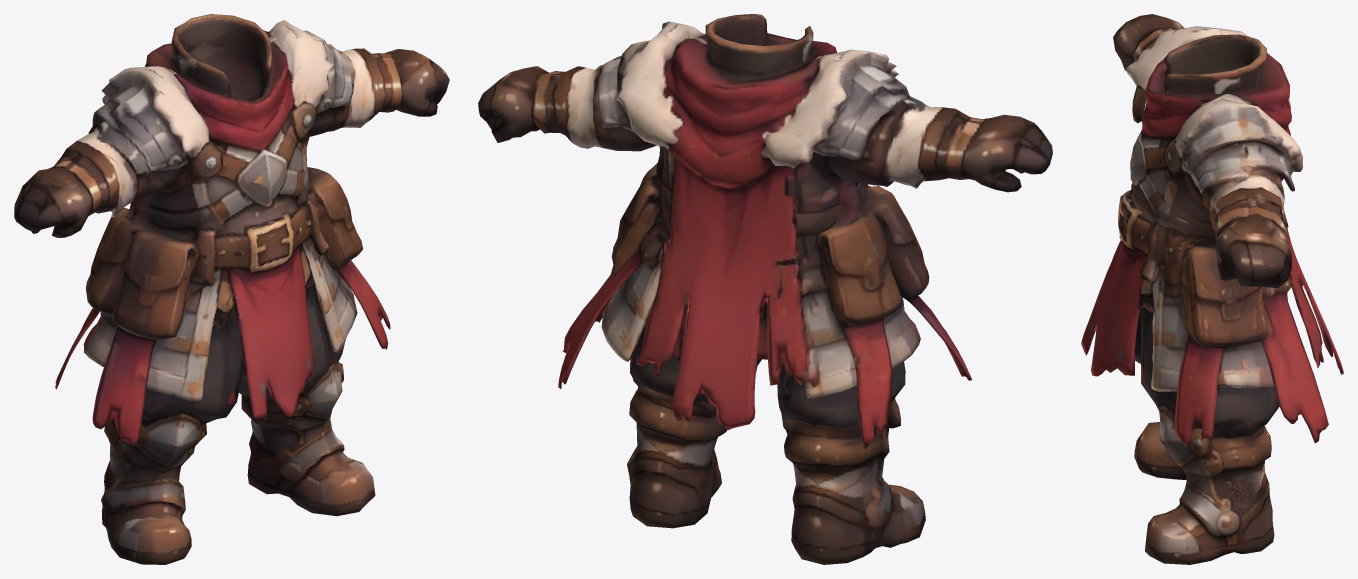
3 renders of one model, left to right at view 1: azimuth 30°, elevation 25°; view 2: azimuth 150°, elevation 25°; view 3: azimuth 270°, elevation 25°, orthographic. The views are drawn at different scales.
Parts seen in each view (by area): view 1: tripo_node_cdde323e-a337-4eee-8c30-f0f2cebe9046; view 2: tripo_node_cdde323e-a337-4eee-8c30-f0f2cebe9046; view 3: tripo_node_cdde323e-a337-4eee-8c30-f0f2cebe9046.
Part boxes in pixels (x1,y1,x2,y2): tripo_node_cdde323e-a337-4eee-8c30-f0f2cebe9046: (14, 14, 449, 564); tripo_node_cdde323e-a337-4eee-8c30-f0f2cebe9046: (478, 14, 1052, 564); tripo_node_cdde323e-a337-4eee-8c30-f0f2cebe9046: (1081, 14, 1343, 564).
Size of the model in its own units: 0.973 by 0.9238 by 0.4783.
Materials: 1 (1 with a texture image).
